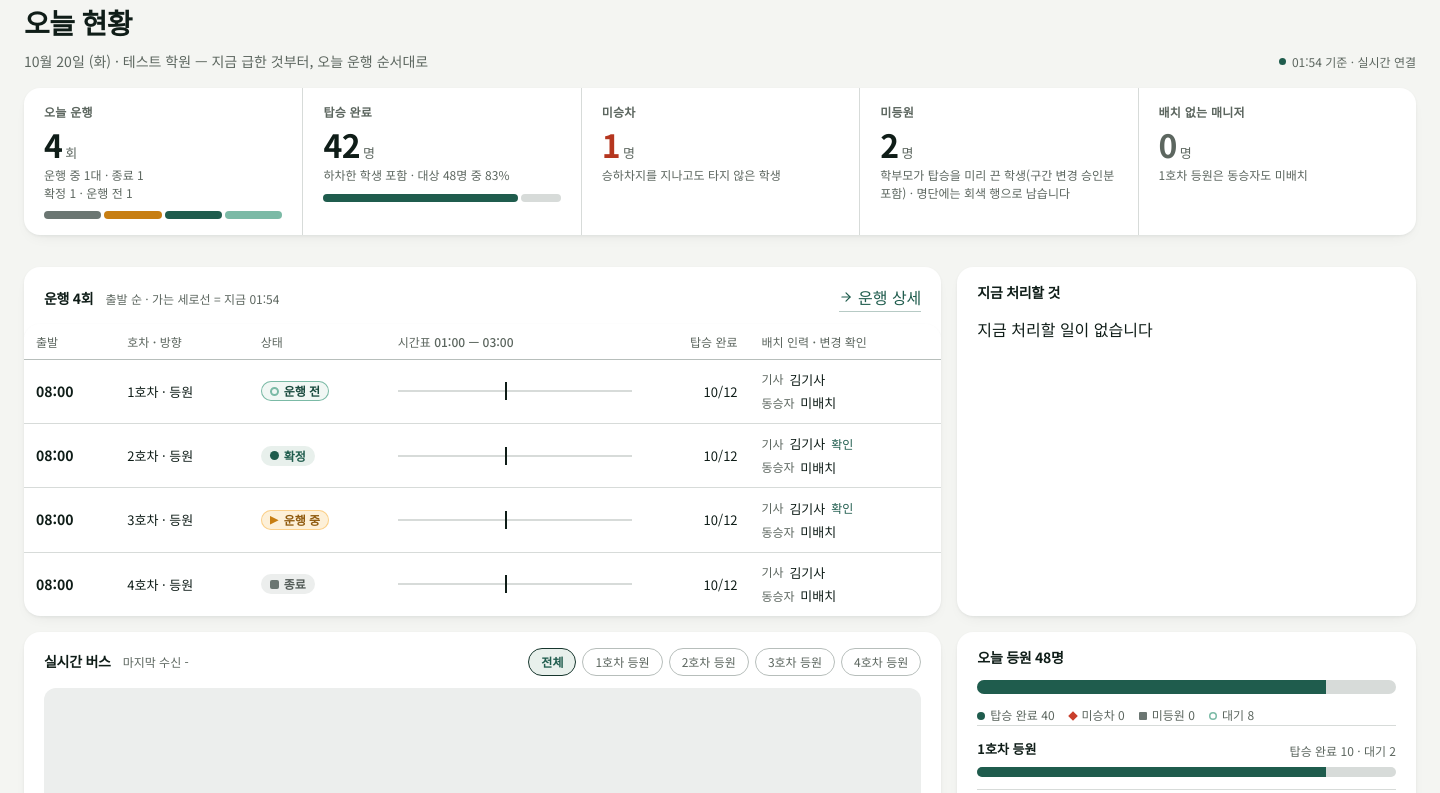
Scenario: DashboardPage — 버스 목록 4종 상태·노선 선택 › 경로 좌표가 0개면 확정됐지만 경로 정보가 아직 없습니다 를 보여주고 근사 경로 안내는 뜨지 않는다
Step 1. Click the button "3호차 등원" → (795, 662), box top-left (755, 648), bottom-right (835, 676)
(page scrolled)
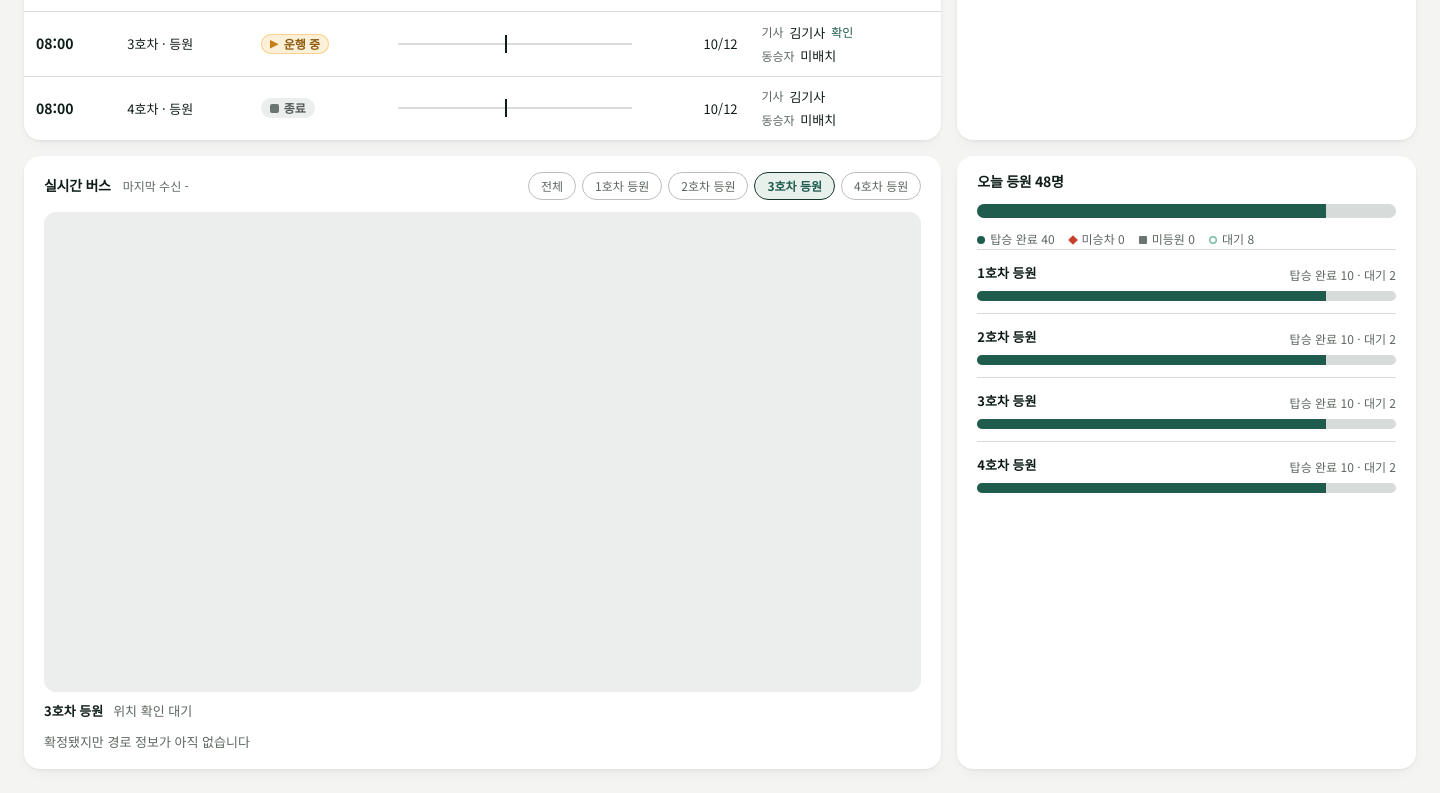
Result: the text "확정됐지만 경로 정보가 아직 없습니다" is shown at top-left (44, 732), bottom-right (250, 751)
